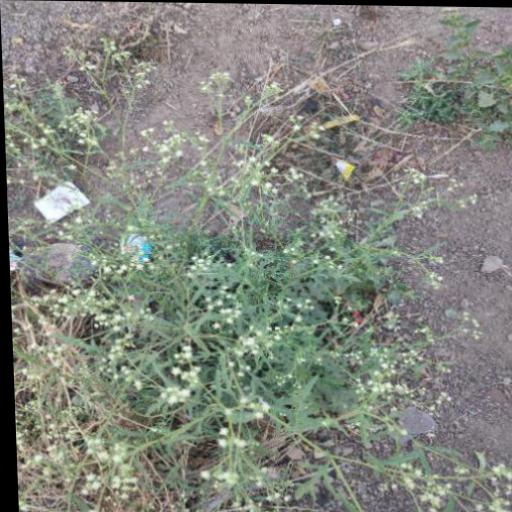weed: (5, 24, 487, 512)
